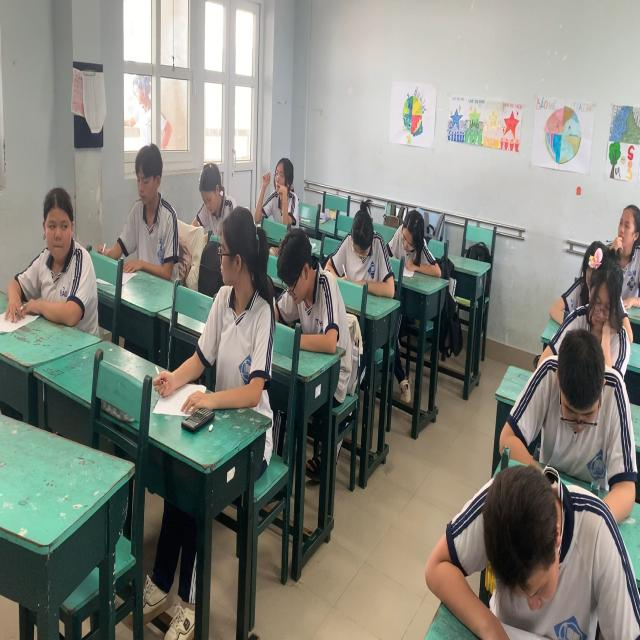cheating: (219, 209, 274, 406), (31, 185, 92, 330)
not_cheating: (274, 208, 342, 350), (122, 136, 183, 278), (330, 199, 398, 302), (388, 202, 438, 286), (256, 154, 301, 222), (190, 157, 229, 226)
